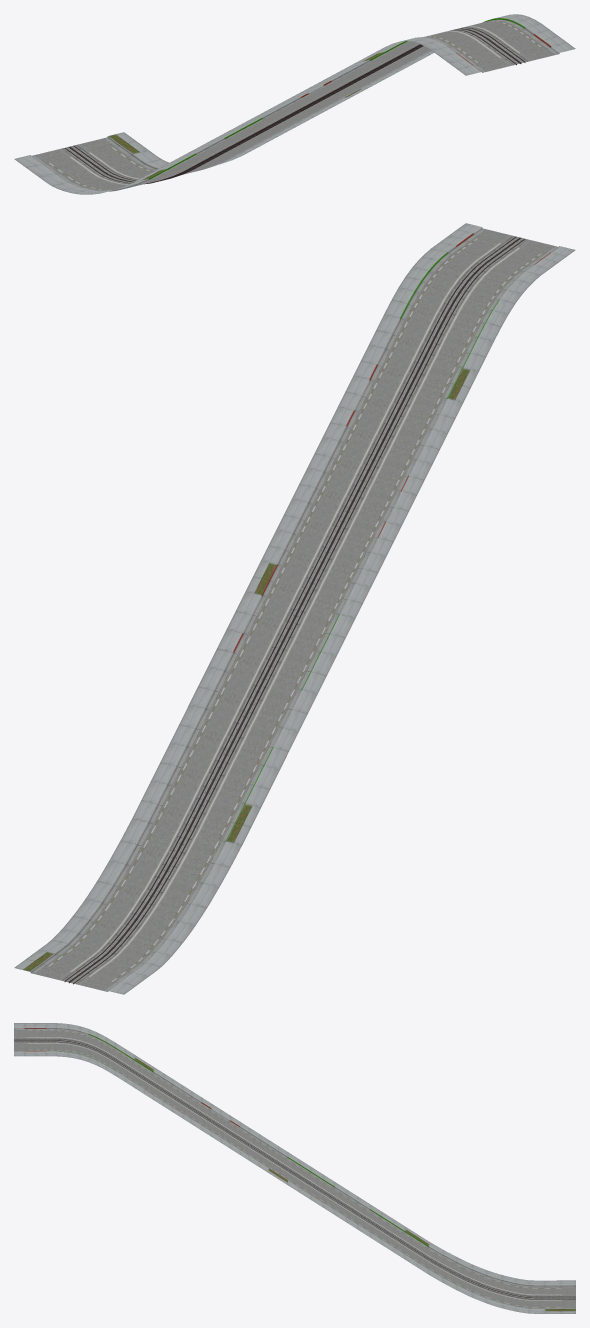
The model's file is Road_Rail07.fbx.
3 renders of one model, top to bottom at view 1: azimuth 30°, elevation 25°; view 2: azimuth 150°, elevation 25°; view 3: azimuth 270°, elevation 25°, orthographic. The views are drawn at different scales.
Parts seen in each view (by area): view 1: ct2_01_n9_road_rail07; view 2: ct2_01_n9_road_rail07; view 3: ct2_01_n9_road_rail07.
Boxes of the visible parts, x1,y1,x2,y2 form: ct2_01_n9_road_rail07: (14,14,575,194); ct2_01_n9_road_rail07: (14,223,575,994); ct2_01_n9_road_rail07: (14,1023,575,1313).
Size of the model in its own units: 2002 by 7223 by 14221.
